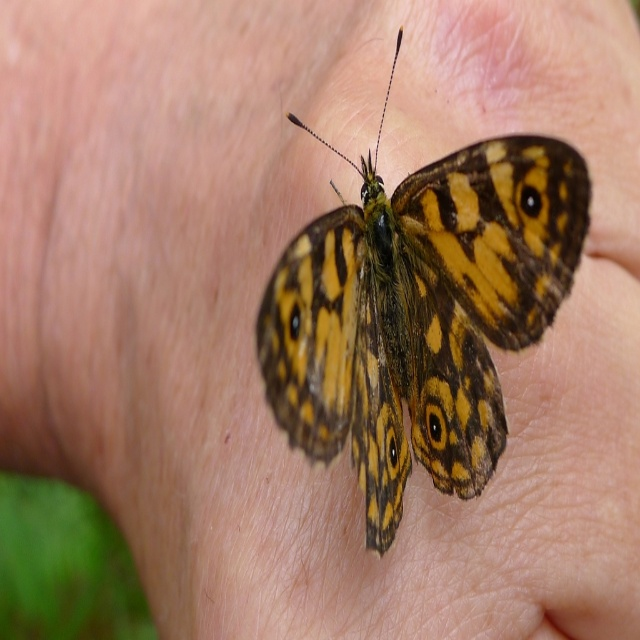Butterfly: (250, 27, 572, 565)
